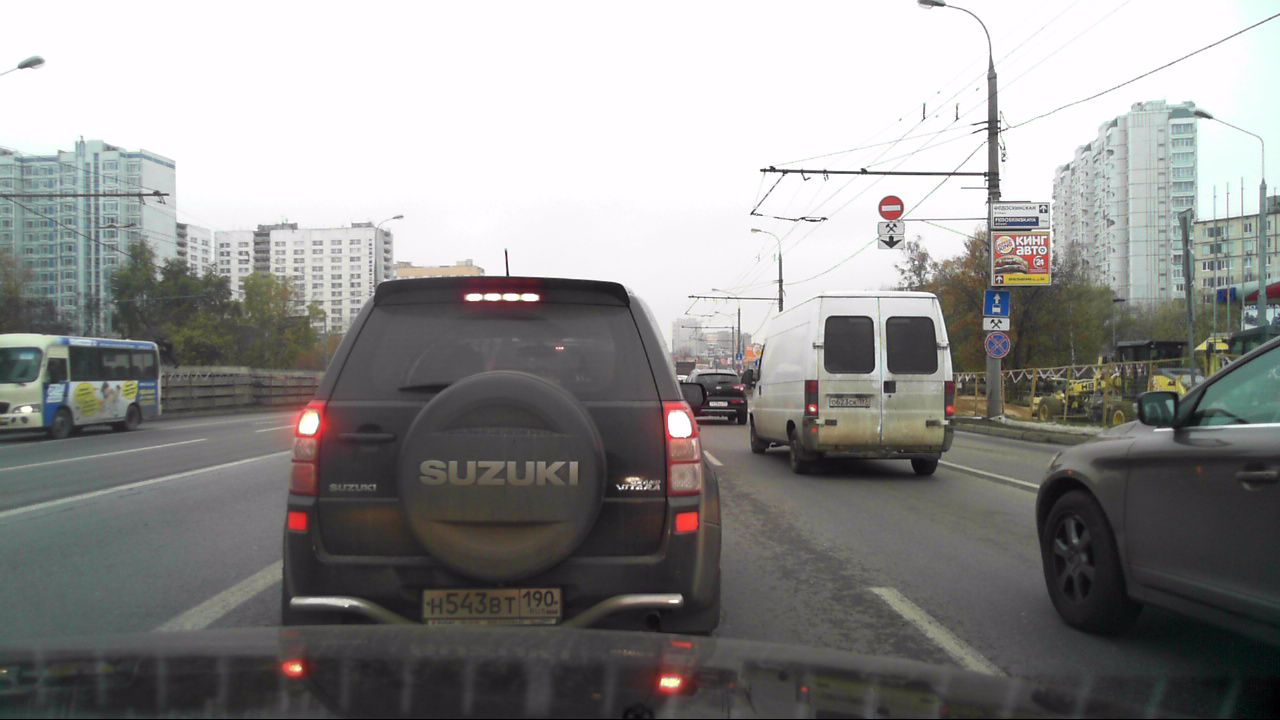No Parking: (984, 332, 1009, 357)
